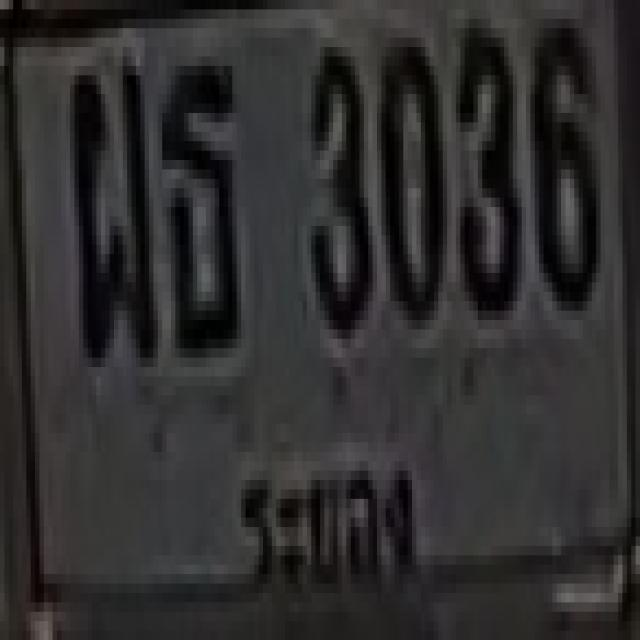0: (377, 28, 438, 320)
3: (307, 38, 368, 330), (456, 14, 517, 306)
6: (526, 10, 596, 302)
A24: (158, 56, 237, 348)
A28: (66, 56, 153, 358)
RYG: (226, 442, 432, 612)
